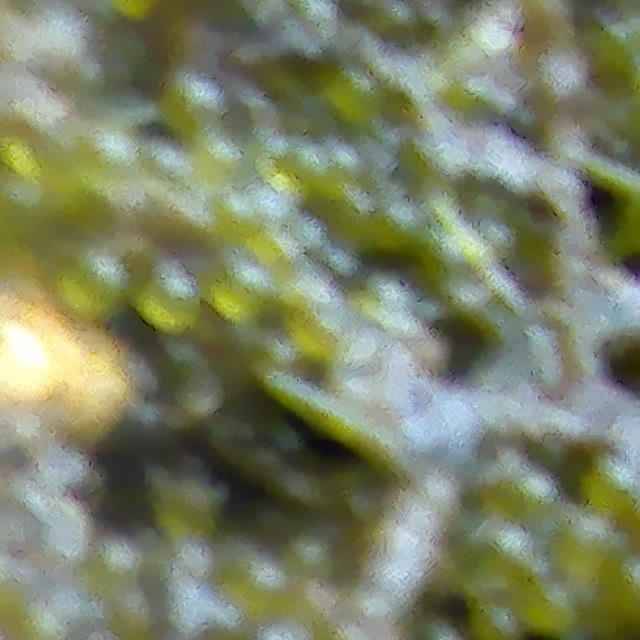SeaGrape: (95, 536, 141, 581)
